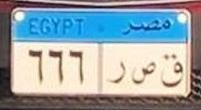6: (67, 49, 88, 85), (28, 49, 45, 82), (47, 51, 64, 82)
qaaf: (158, 50, 186, 91)
raa: (107, 59, 126, 87)
saad: (129, 58, 156, 85)
